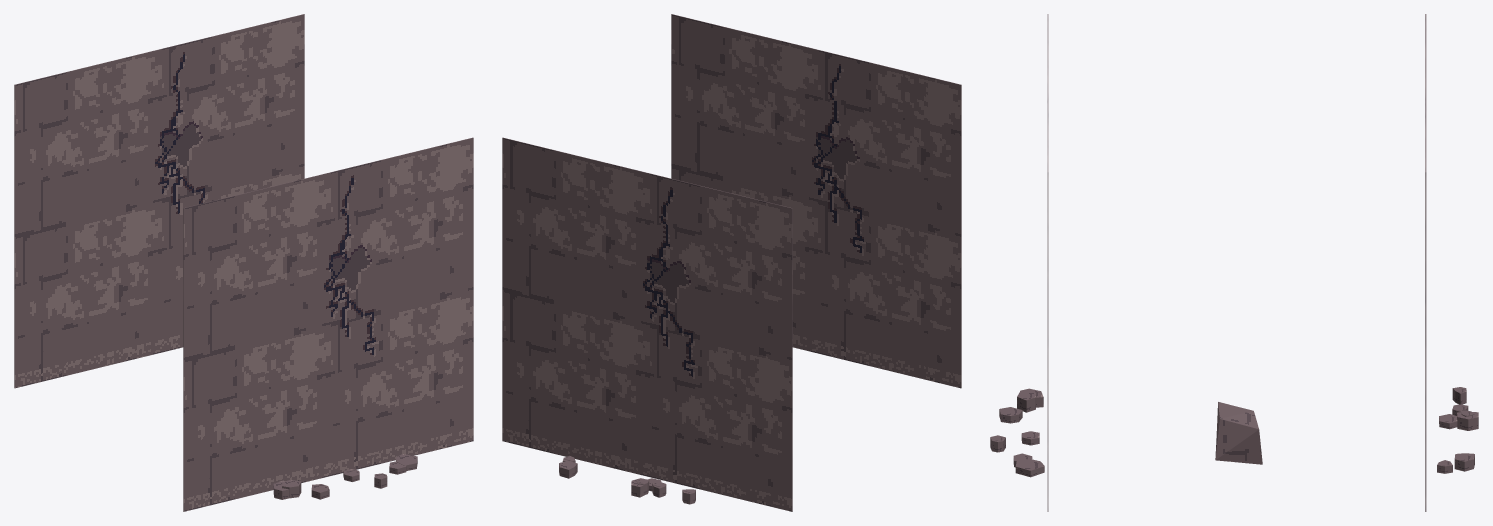
Rendered from cracked_wall_b.glb.
3 renders of one model, left to right at view 1: azimuth 30°, elevation 25°; view 2: azimuth 150°, elevation 25°; view 3: azimuth 270°, elevation 25°, orthographic. The views are drawn at different scales.
Visible parts, largest first — view 1: panel_front, panel_back, debris_front; view 2: panel_back, panel_front, debris_back; view 3: chunk, debris_front, debris_back, panel_back, panel_front.
Boxes of the visible parts, <box> form: panel_front: <box>183,137,473,511</box>; panel_back: <box>14,14,304,388</box>; debris_front: <box>273,454,417,499</box>; panel_back: <box>502,137,792,511</box>; panel_front: <box>671,14,961,388</box>; debris_back: <box>559,455,695,504</box>; chunk: <box>1215,402,1262,464</box>; debris_front: <box>990,388,1044,477</box>; debris_back: <box>1437,387,1478,473</box>; panel_back: <box>1425,14,1426,511</box>; panel_front: <box>1047,14,1048,511</box>.
Bounding box in the file's own units: 2 × 2.14 × 2.61.
1 material, 1 textured.
